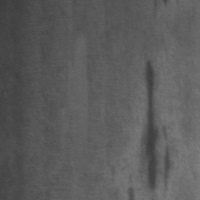inclusion: (136, 56, 175, 196)
